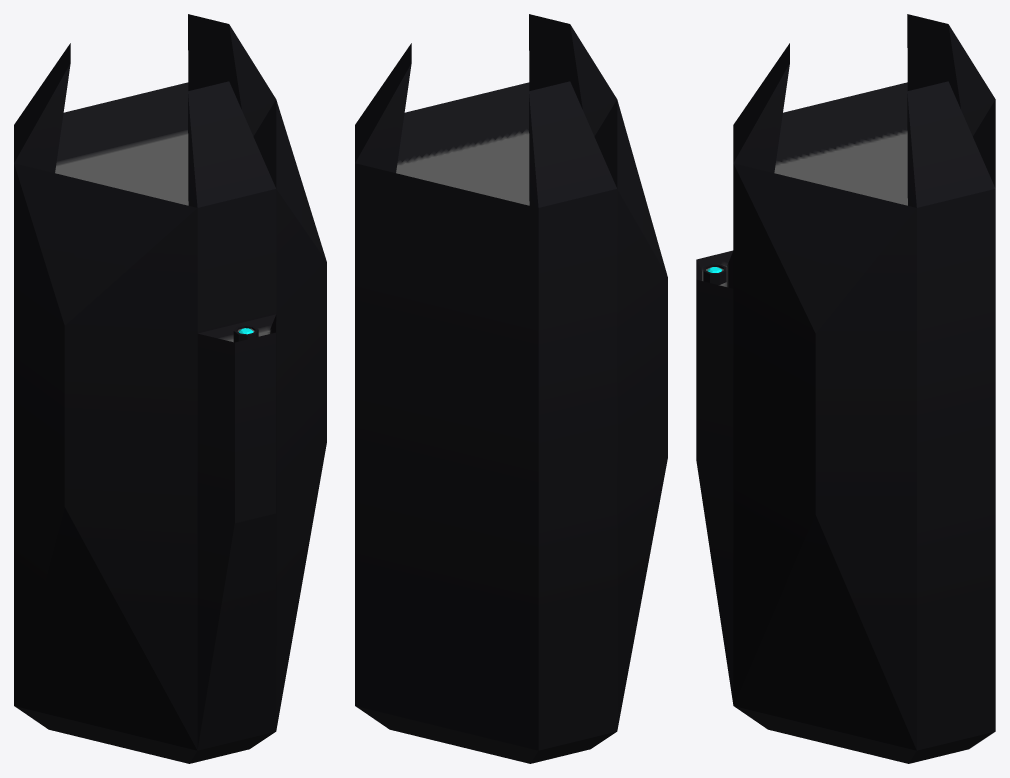
File: Turret MK1.glb
3 renders of one model, left to right at view 1: azimuth 30°, elevation 25°; view 2: azimuth 150°, elevation 25°; view 3: azimuth 270°, elevation 25°, orthographic.
Visible parts, largest first — view 1: MK_1_Body; view 2: MK_1_Body; view 3: MK_1_Body.
Part boxes in pixels (bbox=[...]): MK_1_Body: bbox=[14, 14, 326, 763]; MK_1_Body: bbox=[355, 14, 667, 763]; MK_1_Body: bbox=[696, 14, 995, 763].
Size of the model in its own units: 0.2747 by 0.6631 by 0.2716.
Materials: 1 (1 with a texture image).
